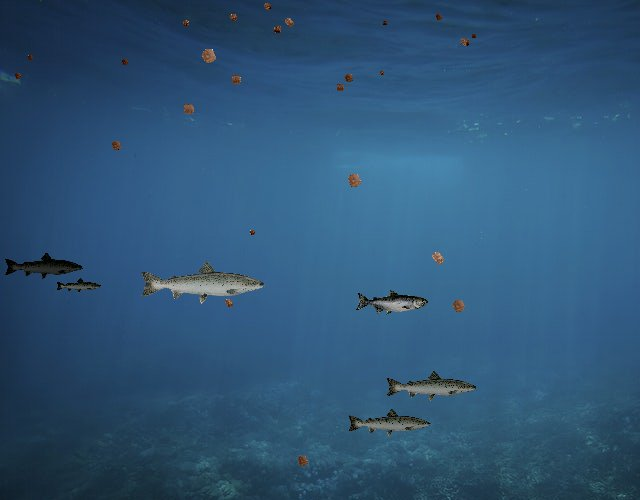Fish: (138, 259, 267, 305), (385, 370, 479, 404), (346, 407, 432, 438), (4, 252, 85, 281), (355, 290, 428, 316), (55, 278, 102, 294)
Pellet: (194, 40, 224, 70), (424, 244, 451, 271), (446, 292, 472, 318), (177, 98, 200, 121), (292, 450, 314, 472), (178, 16, 193, 31), (118, 55, 132, 69), (246, 226, 258, 238)
